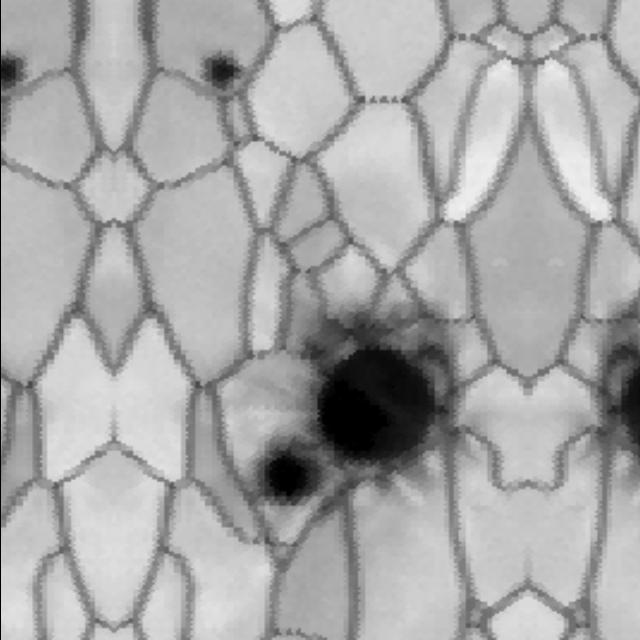good_void: (267, 266, 505, 508), (222, 416, 344, 541), (594, 295, 640, 476), (189, 44, 253, 95), (0, 44, 34, 94)
